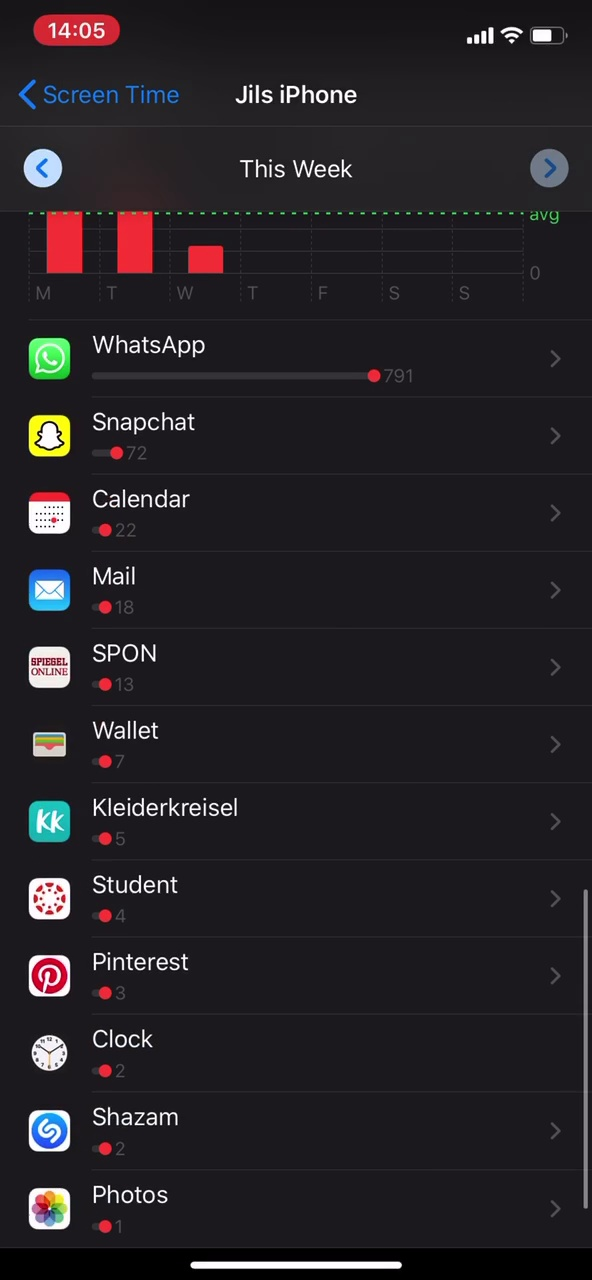not_app: (28, 319, 443, 397), (15, 788, 290, 852), (25, 403, 270, 466), (22, 867, 248, 932), (22, 482, 229, 547), (17, 639, 217, 702), (20, 946, 212, 1008), (14, 1100, 204, 1161), (15, 1177, 204, 1238), (23, 717, 204, 769), (23, 563, 173, 616)
not_over: (22, 1022, 189, 1085)
week: (219, 142, 366, 189)
